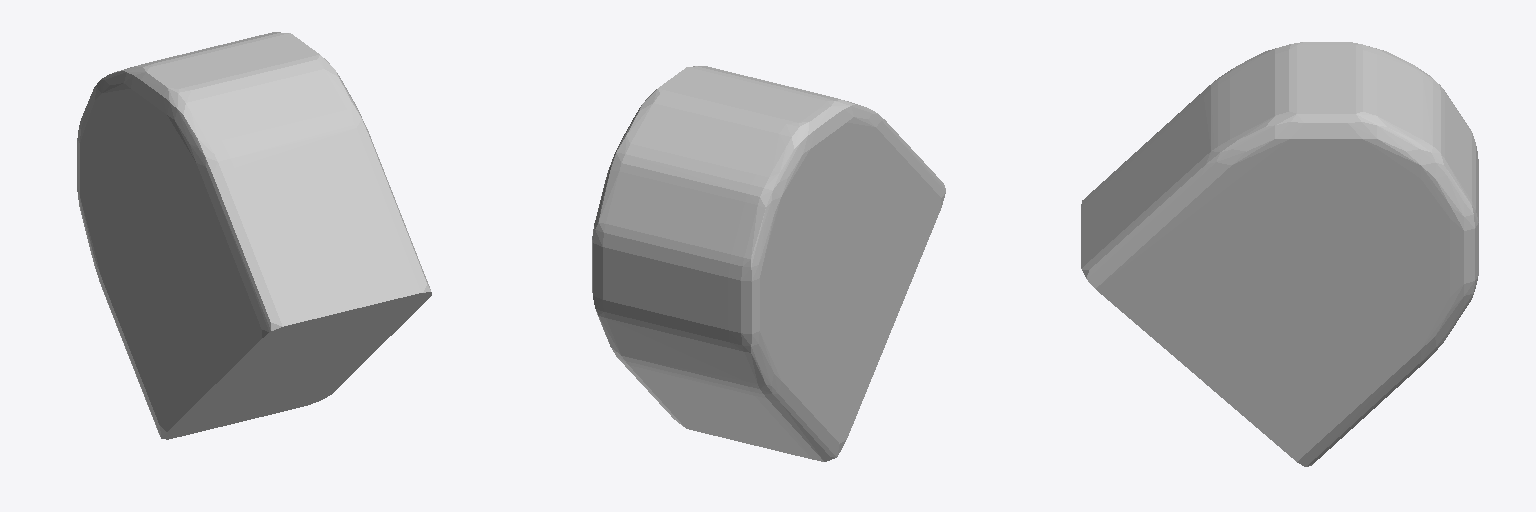
The model's file is Carbon_Mov_Finger_021_v1_1_mesh_collision_12.obj.
The picture shows the model from 3 angles: view 1: azimuth 30°, elevation 25°; view 2: azimuth 150°, elevation 25°; view 3: azimuth 270°, elevation 25°; orthographic projection.
Bounding box in the file's own units: 0.0033 × 0.0066 × 0.0067.